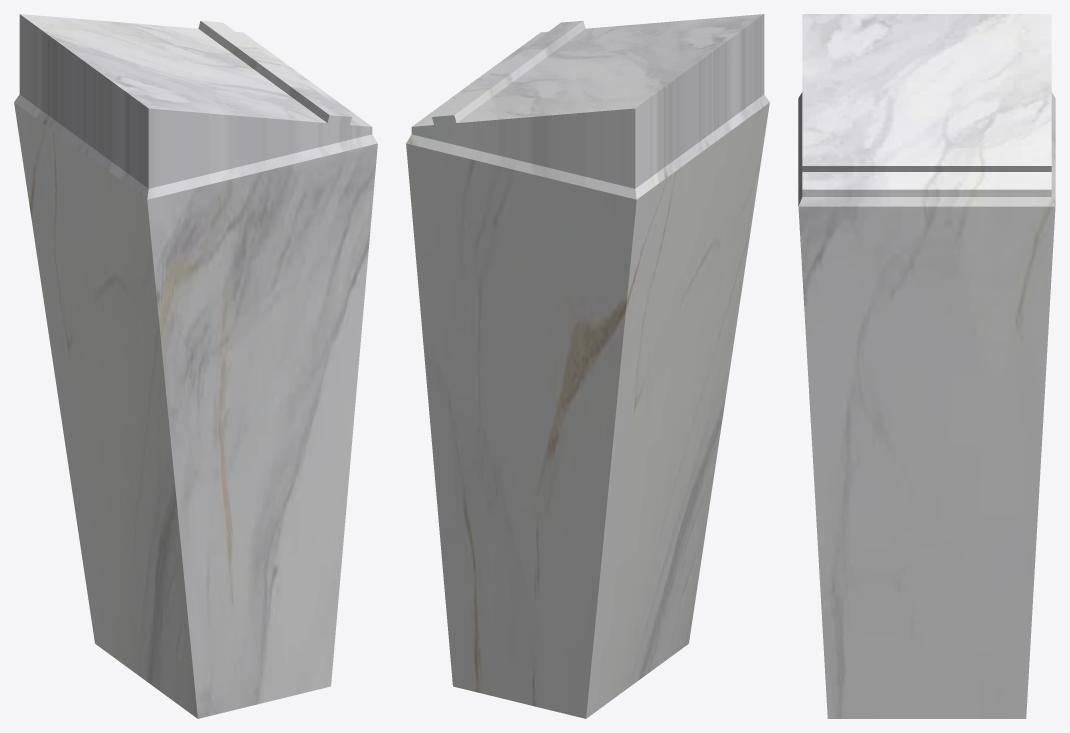
The model's file is Stand.fbx.
3 views of the same model, side by side, from view 1: azimuth 30°, elevation 25°; view 2: azimuth 150°, elevation 25°; view 3: azimuth 270°, elevation 25° (orthographic). The views are drawn at different scales.
Parts seen in each view (by area): view 1: Cube; view 2: Cube; view 3: Cube.
Part boxes in pixels (bbox=[...]): Cube: bbox=[14, 14, 377, 718]; Cube: bbox=[406, 14, 769, 718]; Cube: bbox=[798, 14, 1055, 718].
Size of the model in its own units: 200 by 526 by 200.
1 material, 1 textured.
